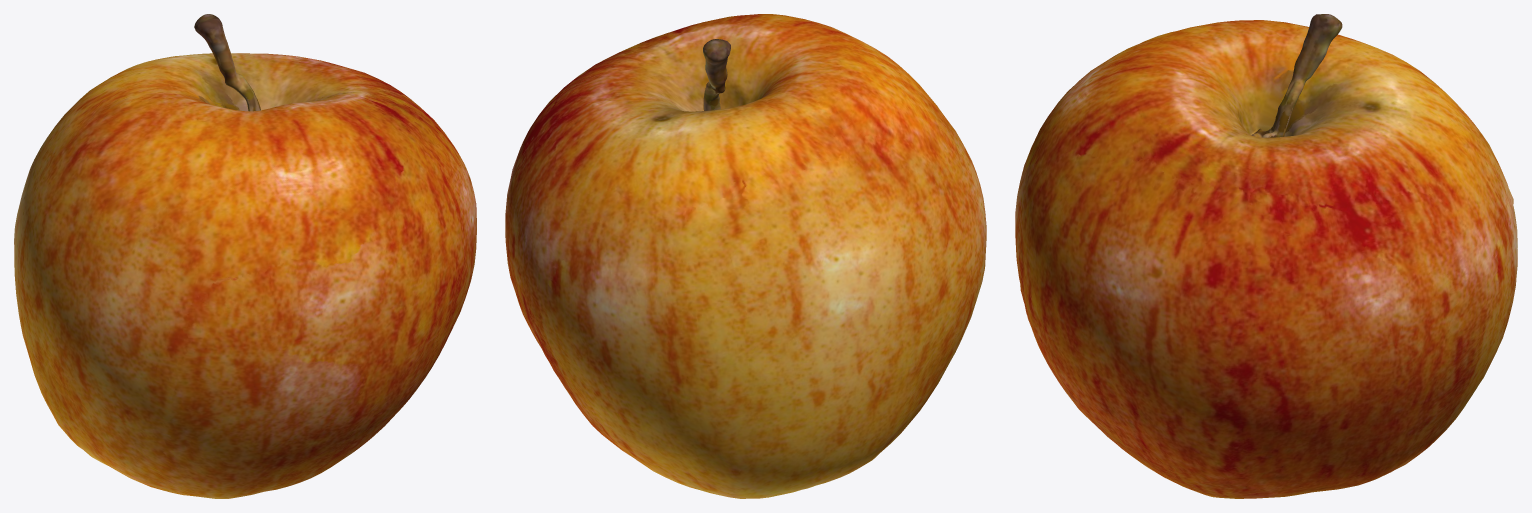
The model's file is apple.obj.
3 renders of one model, left to right at view 1: azimuth 30°, elevation 25°; view 2: azimuth 150°, elevation 25°; view 3: azimuth 270°, elevation 25°, orthographic. The views are drawn at different scales.
Parts seen in each view (by area): view 1: objapple; view 2: objapple; view 3: objapple.
Boxes of the visible parts, <box> form: objapple: <box>14,14,476,498</box>; objapple: <box>505,14,986,498</box>; objapple: <box>1015,14,1517,498</box>.
Bounding box in the file's own units: 0.1 × 0.1 × 0.1.
1 material, 1 textured.
